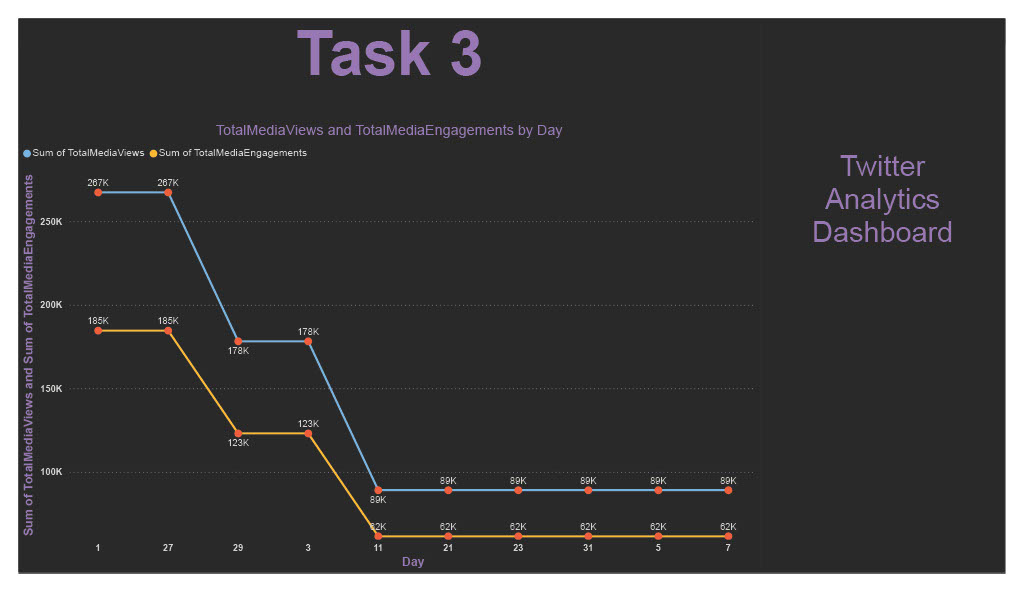

Layout of this report page (visuals, bound fields, positions):
{"tool":"powerbi","page":{"name":"Task 3","canvas":[1280,720],"ordinal":2},"visuals":[{"type":"textbox","box":[961.9,0,317.5,718.1],"z":0},{"type":"lineChart","title":"TotalMediaViews and TotalMediaEngagements by Day","fields":{"Category":["SocialMedia (1).Day"],"Y":["Sum(SocialMedia (1).TotalMediaViews)","Sum(SocialMedia (1).TotalMediaEngagements)"]},"box":[0,134.2,961.9,583.9],"z":1},{"type":"textbox","title":"Task 3","box":[0,0,961.9,134.2],"z":2}]}

Visuals, with their boxes in screenshot pixels (x1, y1, x2, y2), scaled from the page's 1280x720 canvas onto the 1024x592 screenshot:
textbox: (x1=770, y1=0, x2=1023, y2=590)
"TotalMediaViews and TotalMediaEngagements by Day" lineChart: (x1=0, y1=110, x2=770, y2=590)
"Task 3" textbox: (x1=0, y1=0, x2=770, y2=110)
